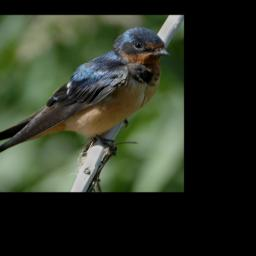Swallow: (0, 26, 172, 178)
